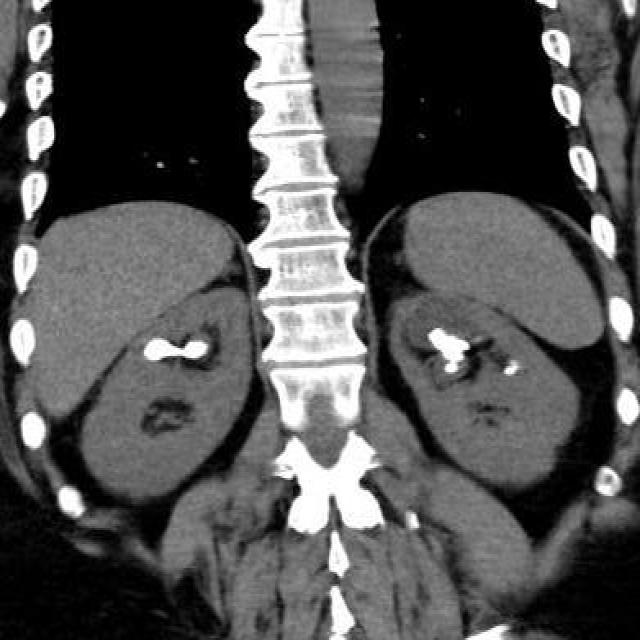Tas_Var: (428, 325, 472, 363), (140, 335, 182, 365), (182, 340, 212, 362), (504, 363, 521, 377), (444, 361, 460, 375)
